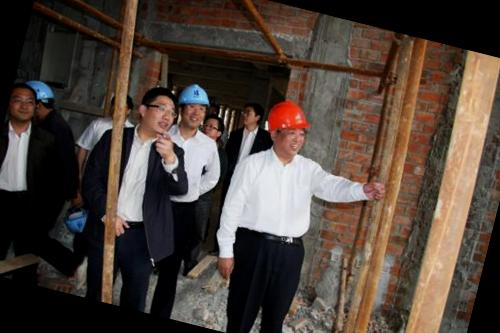no_helmet: (132, 80, 182, 138), (5, 77, 47, 127), (196, 110, 230, 148), (234, 96, 266, 135)
